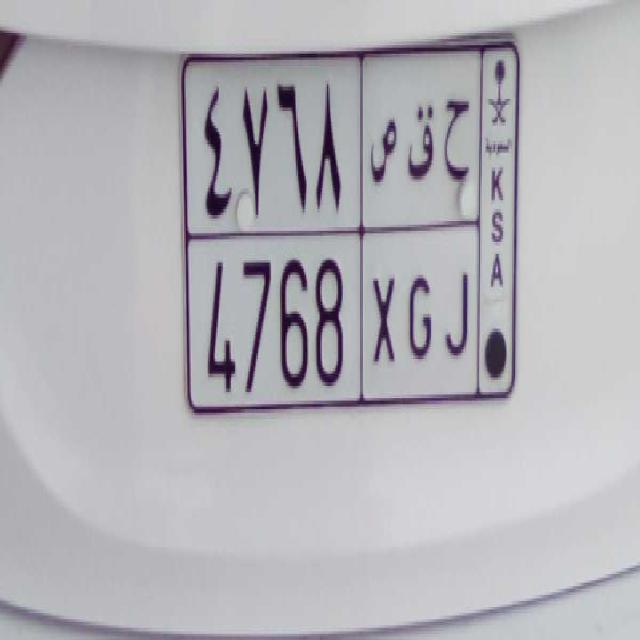license_plate: (194, 232, 476, 411)
